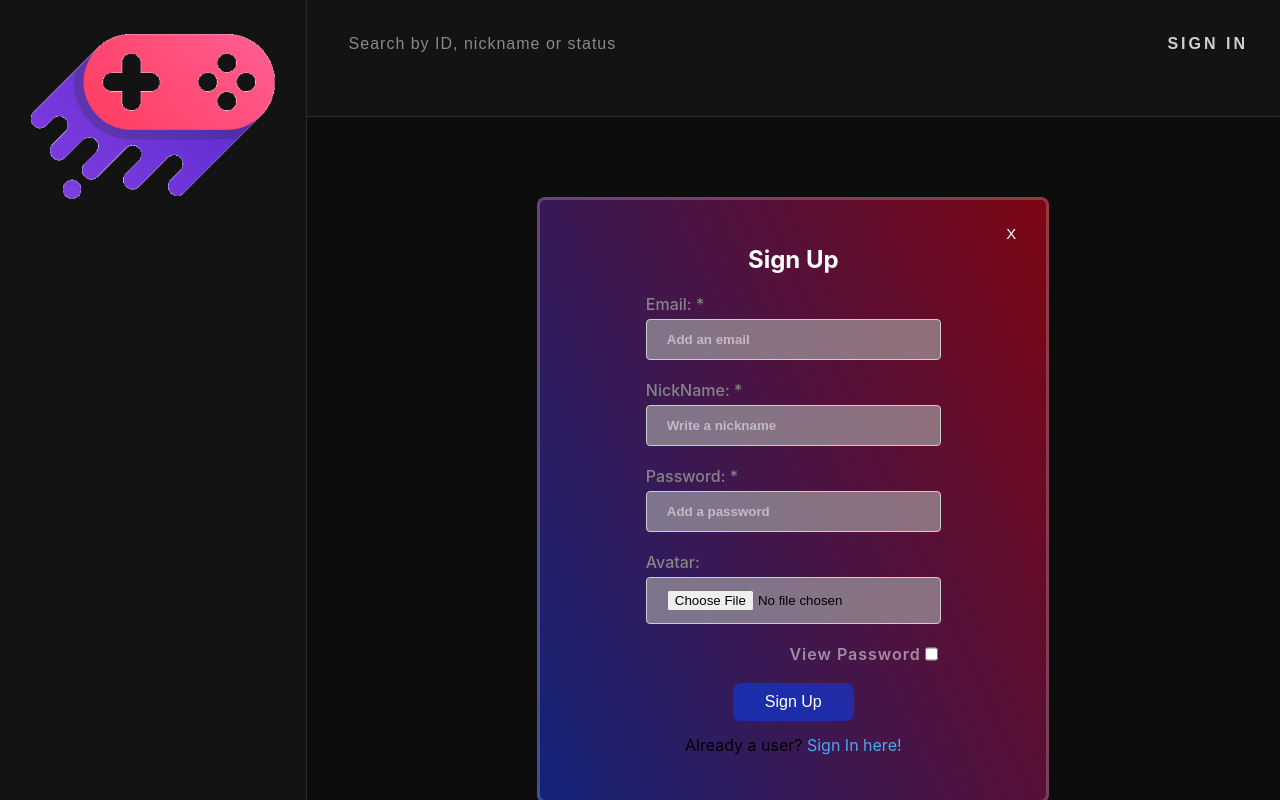
Render the Login › Sign Up Form: check empty data before submit
Click the submit button at (794, 702), box [733,683,854,721]
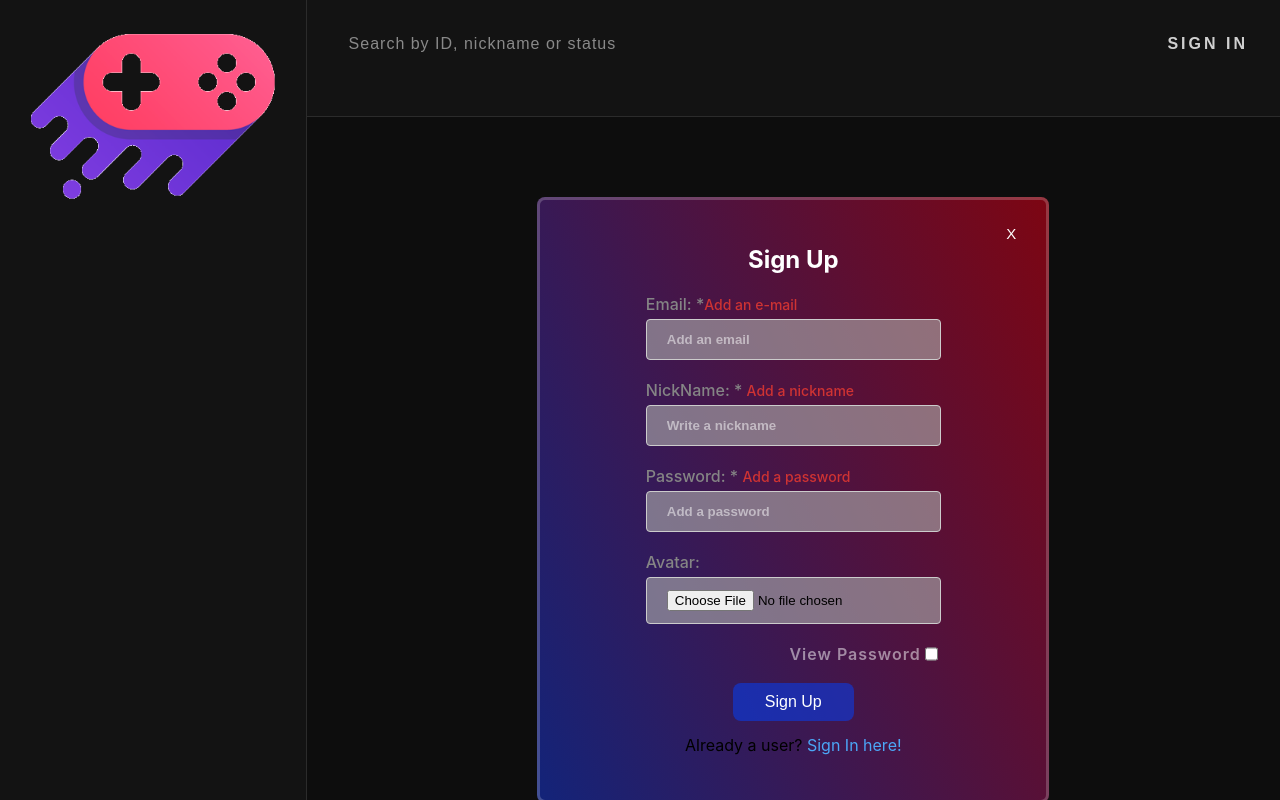
Expected: the text "Add an e-mail" is shown, [704,296,797,313]
Expected: the text "Add a nickname" is shown, [747,382,854,399]
Expected: the text "Add a password" is shown, [742,468,850,485]
